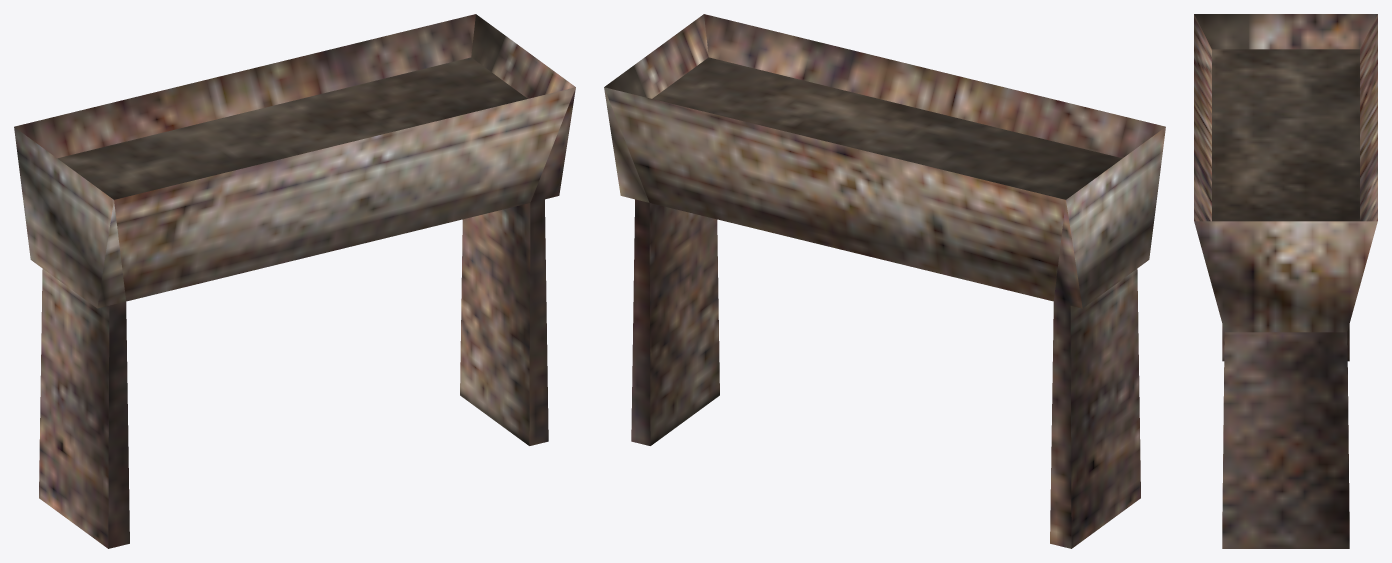
File: waterthrough.obj
3 views of the same model, side by side, from view 1: azimuth 30°, elevation 25°; view 2: azimuth 150°, elevation 25°; view 3: azimuth 270°, elevation 25° (orthographic). The views are drawn at different scales.
Visible parts, largest first — view 1: AnyConv.com__watertrough_3DS; view 2: AnyConv.com__watertrough_3DS; view 3: AnyConv.com__watertrough_3DS.
Boxes of the visible parts, x1,y1,x2,y2 form: AnyConv.com__watertrough_3DS: (14,14,575,548); AnyConv.com__watertrough_3DS: (604,14,1165,548); AnyConv.com__watertrough_3DS: (1194,14,1377,548).
Size of the model in its own units: 2.93 by 2.19 by 1.1.
